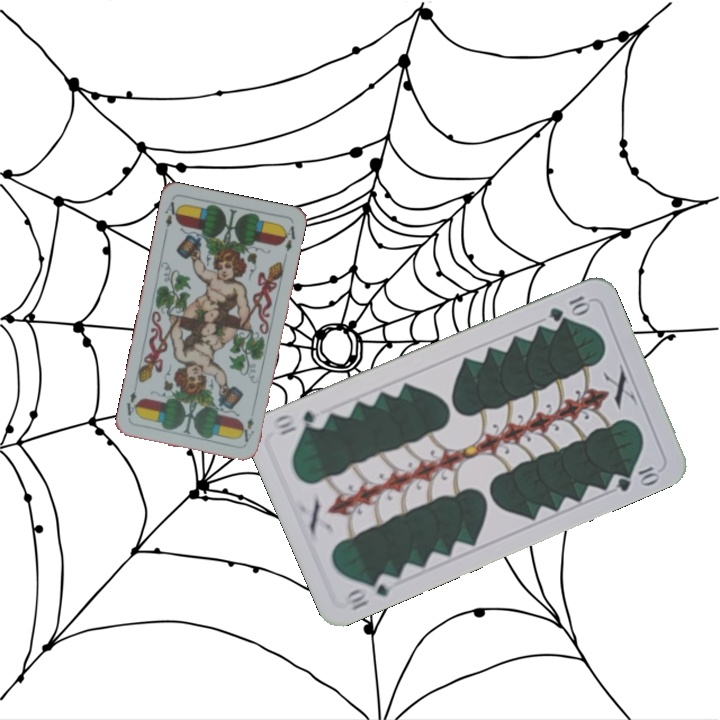EA: (160, 197, 182, 230), (239, 414, 257, 445)
G10: (340, 569, 399, 614), (545, 291, 593, 324)
